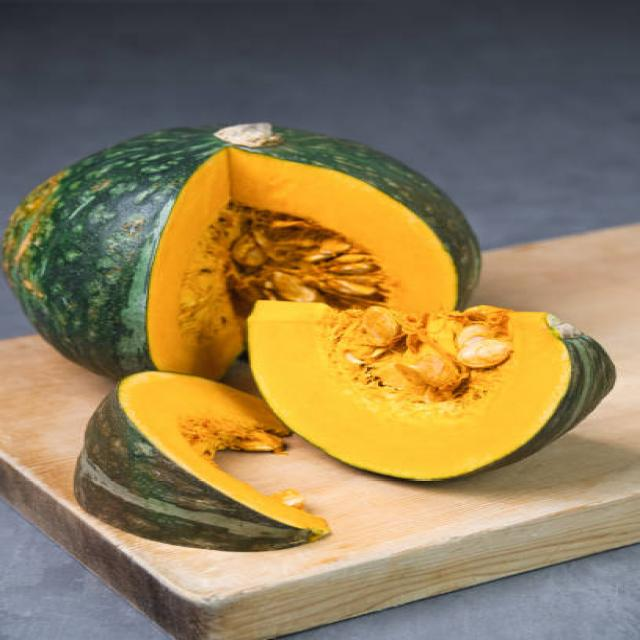pumpkin: (2, 120, 486, 298), (240, 298, 608, 482), (71, 374, 280, 553)
